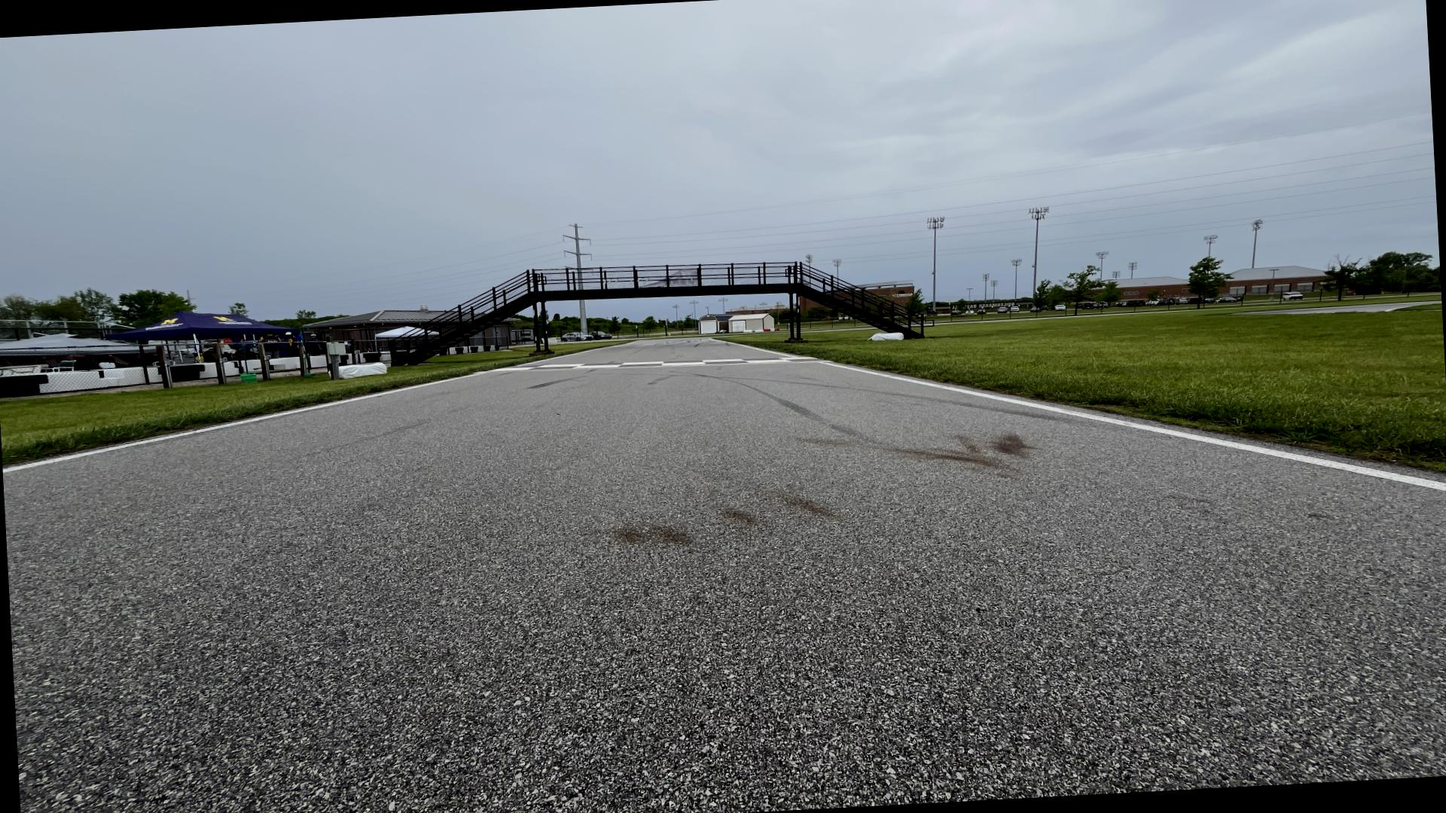white-line: (826, 361, 1445, 493), (2, 372, 481, 474)
